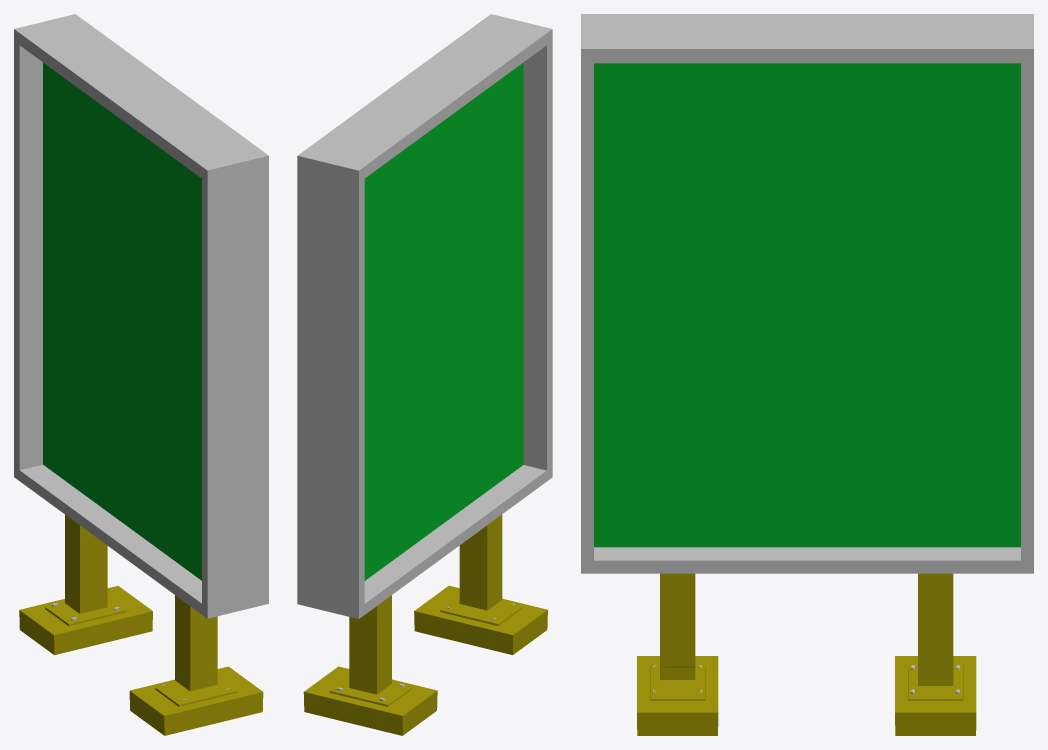
The model's file is board2.fbx.
The picture shows the model from 3 angles, left to right: view 1: azimuth 30°, elevation 25°; view 2: azimuth 150°, elevation 25°; view 3: azimuth 270°, elevation 25°; orthographic projection. The views are drawn at different scales.
Parts seen in each view (by area): view 1: Box002; view 2: Box002; view 3: Box002.
Boxes of the visible parts, x1,y1,x2,y2 form: Box002: [14, 14, 268, 735]; Box002: [297, 14, 552, 735]; Box002: [581, 14, 1033, 735].
Bounding box in the file's own units: 46.38 × 259 × 157.
